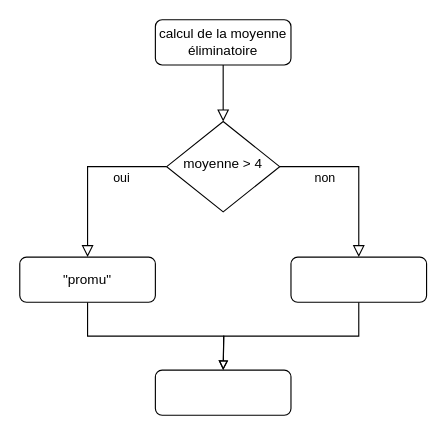
This 446x435 diagram has some shape labels left out. Each missing label, with the box of its shape:
"non promu": (290, 256, 427, 302)
continuation du programme: (154, 369, 291, 415)
